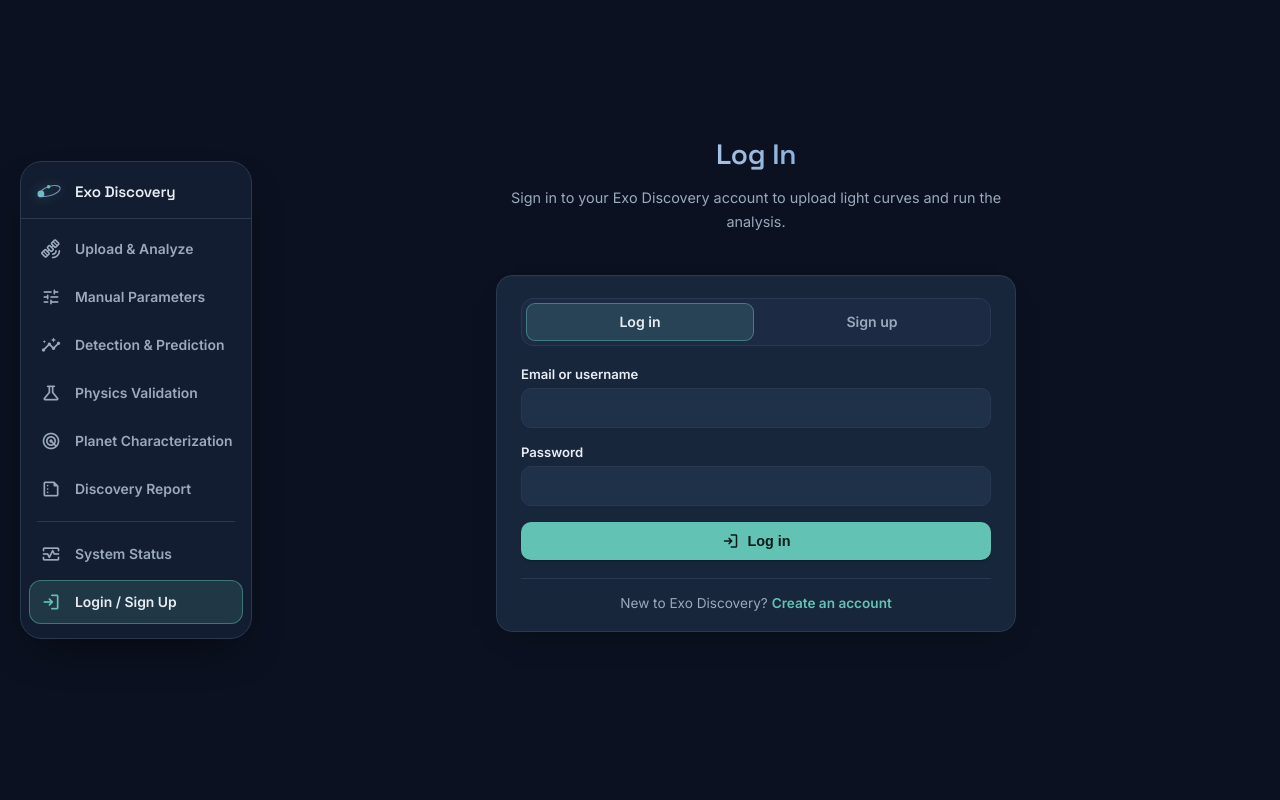
it: logged-out experience › users can switch between the login and sign-up forms
Check: the form "Log in" is shown, box [521,366,991,560]
What coordinates should you click on to do the following:
click the tab "Sign up"
I would click on:
 (872, 322)
Its box is [846,313,898,330].
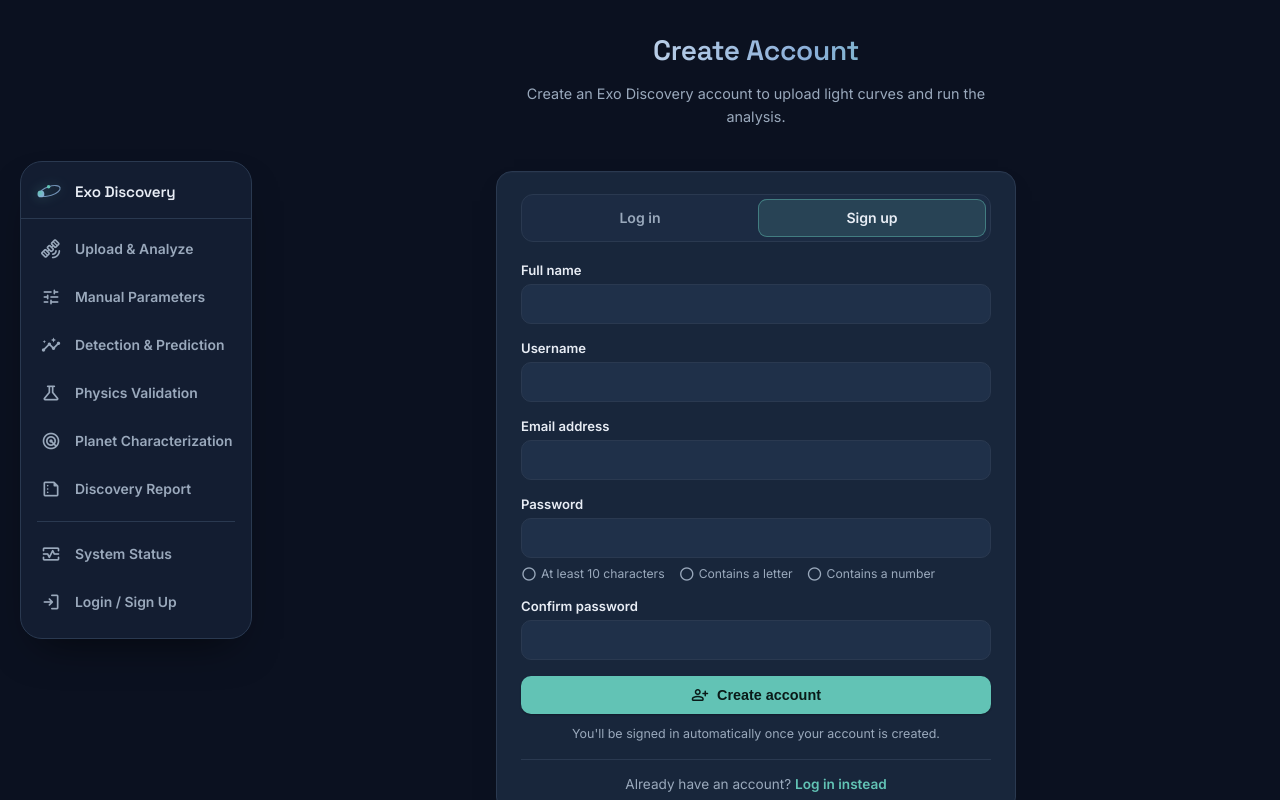
Check: the form named "Sign up" is shown, box [521,262,991,741]
What coordinates should you click on to do the following:
click the tab "Log in"
I would click on:
 (640, 218)
Its box is [619,209,661,226].
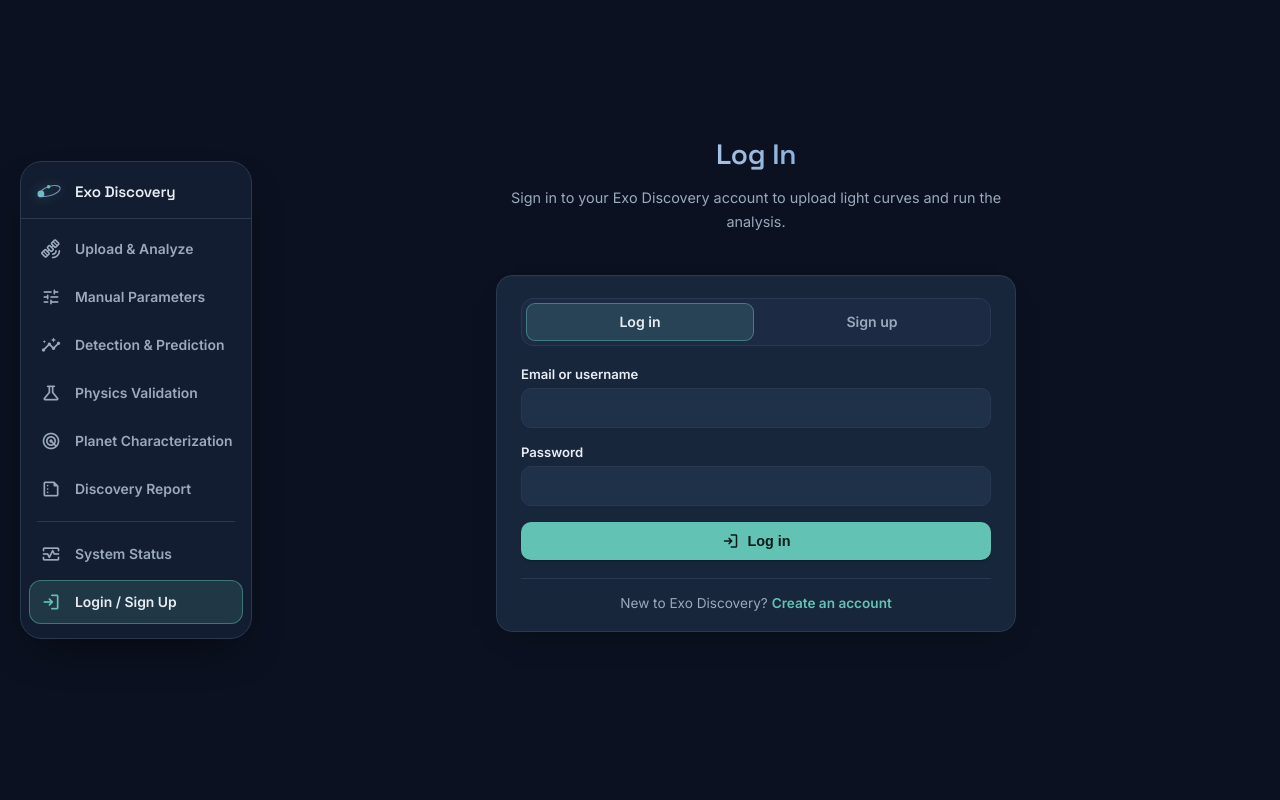
Check: the form "Log in" is shown, box [521,366,991,560]
